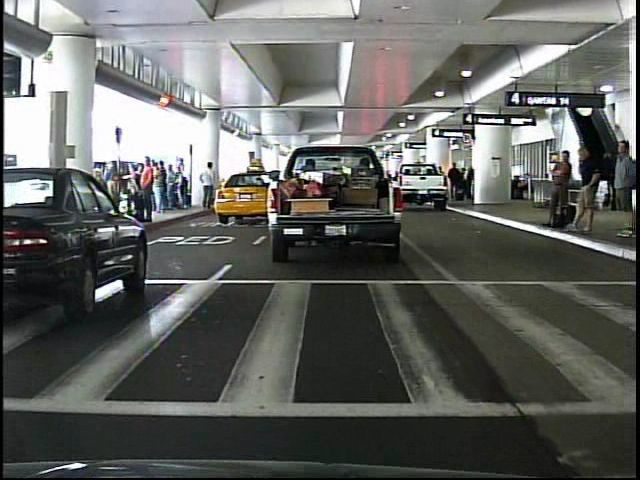person: (605, 137, 636, 242), (540, 145, 575, 237), (571, 141, 604, 238), (138, 154, 158, 222), (199, 160, 219, 214)
